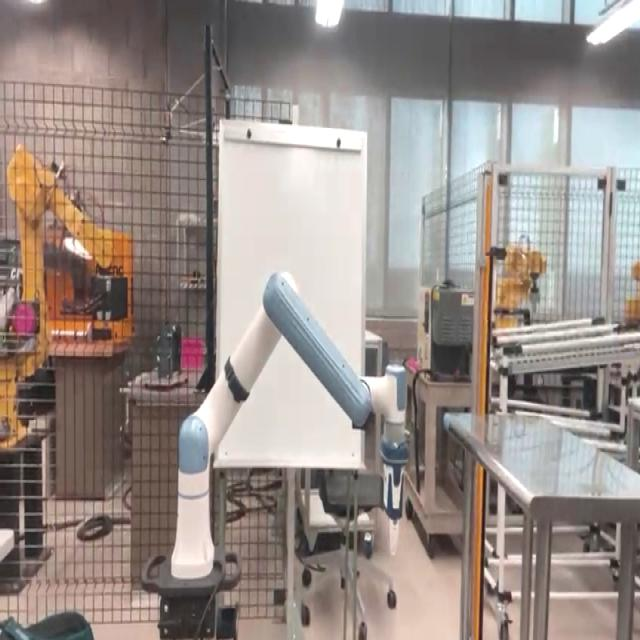robot: (140, 268, 408, 639)
